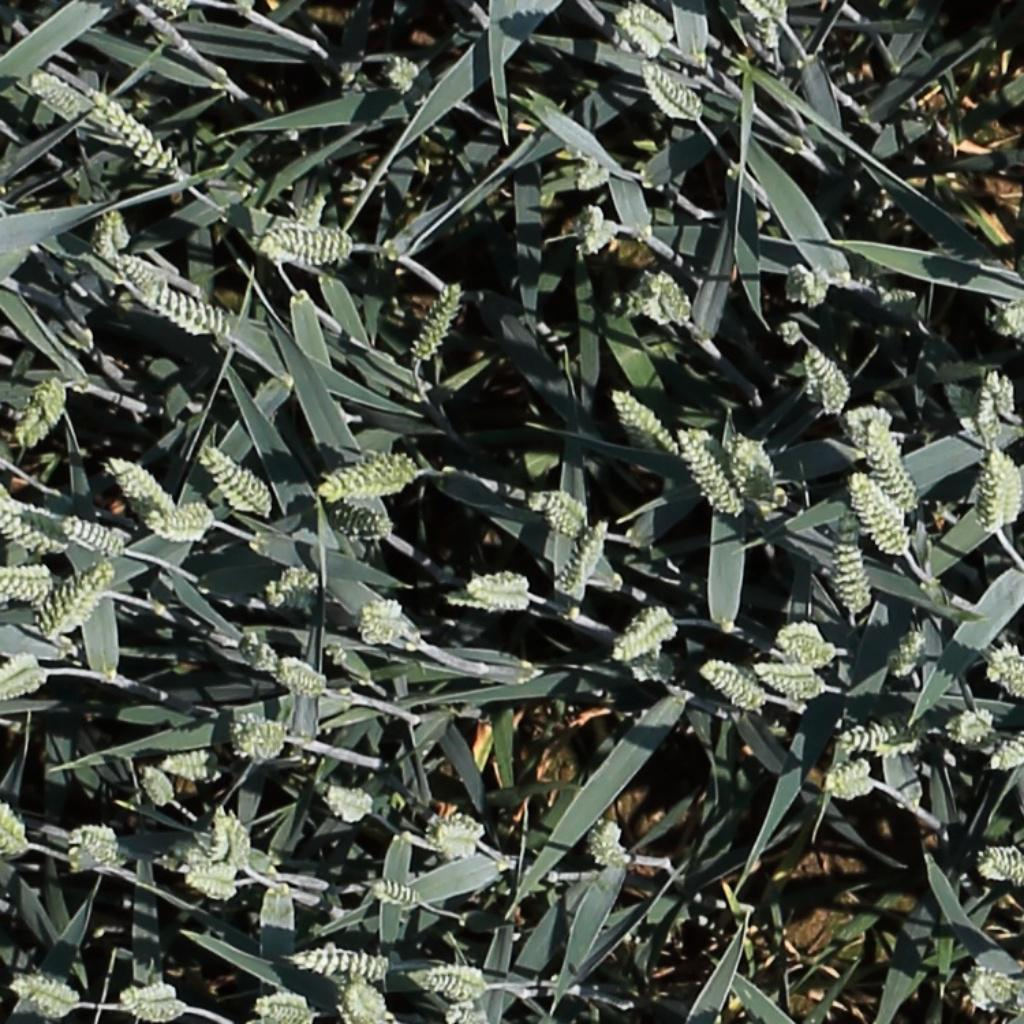0-0: (90, 87, 180, 173), (677, 424, 745, 521), (39, 561, 116, 636), (315, 452, 420, 506), (9, 373, 77, 456), (250, 219, 357, 271), (850, 469, 912, 558), (200, 443, 274, 517), (866, 415, 920, 514), (613, 386, 685, 458), (410, 275, 466, 367), (133, 282, 232, 334), (557, 514, 614, 602), (965, 448, 1021, 535), (417, 806, 491, 871), (21, 65, 93, 130), (322, 492, 396, 555), (348, 590, 419, 655), (608, 605, 680, 669), (254, 555, 327, 617), (641, 54, 707, 122), (456, 564, 540, 617), (691, 655, 768, 711), (838, 710, 927, 758), (374, 43, 447, 101), (61, 813, 127, 876), (777, 252, 839, 317), (399, 947, 486, 993), (821, 538, 869, 621), (765, 612, 839, 665), (804, 337, 853, 417), (291, 943, 394, 980), (210, 802, 265, 871), (845, 394, 903, 459), (619, 5, 686, 61), (632, 268, 693, 329), (0, 494, 62, 554), (105, 454, 172, 509), (731, 432, 780, 507), (147, 502, 221, 551), (84, 199, 138, 264), (563, 140, 619, 201), (822, 752, 885, 806), (752, 656, 824, 703), (875, 274, 933, 332), (119, 969, 182, 1022), (230, 619, 283, 682), (573, 817, 630, 875), (937, 376, 982, 448), (10, 977, 86, 1019), (942, 696, 996, 755), (317, 774, 377, 827), (759, 302, 815, 358), (440, 978, 506, 1024), (968, 833, 1024, 887), (976, 636, 1024, 699), (578, 196, 625, 260), (233, 715, 288, 768), (1, 650, 51, 708), (161, 743, 224, 789), (362, 866, 425, 909), (743, 2, 796, 53), (0, 795, 39, 863), (277, 651, 331, 700), (890, 623, 933, 684), (176, 861, 245, 899), (965, 966, 1019, 1013), (58, 517, 126, 554), (982, 364, 1023, 424), (525, 484, 577, 529), (136, 760, 178, 813), (344, 976, 389, 1024), (294, 182, 333, 237), (986, 294, 1024, 349), (255, 986, 312, 1022), (985, 719, 1024, 771), (116, 251, 166, 289), (0, 569, 50, 595)
